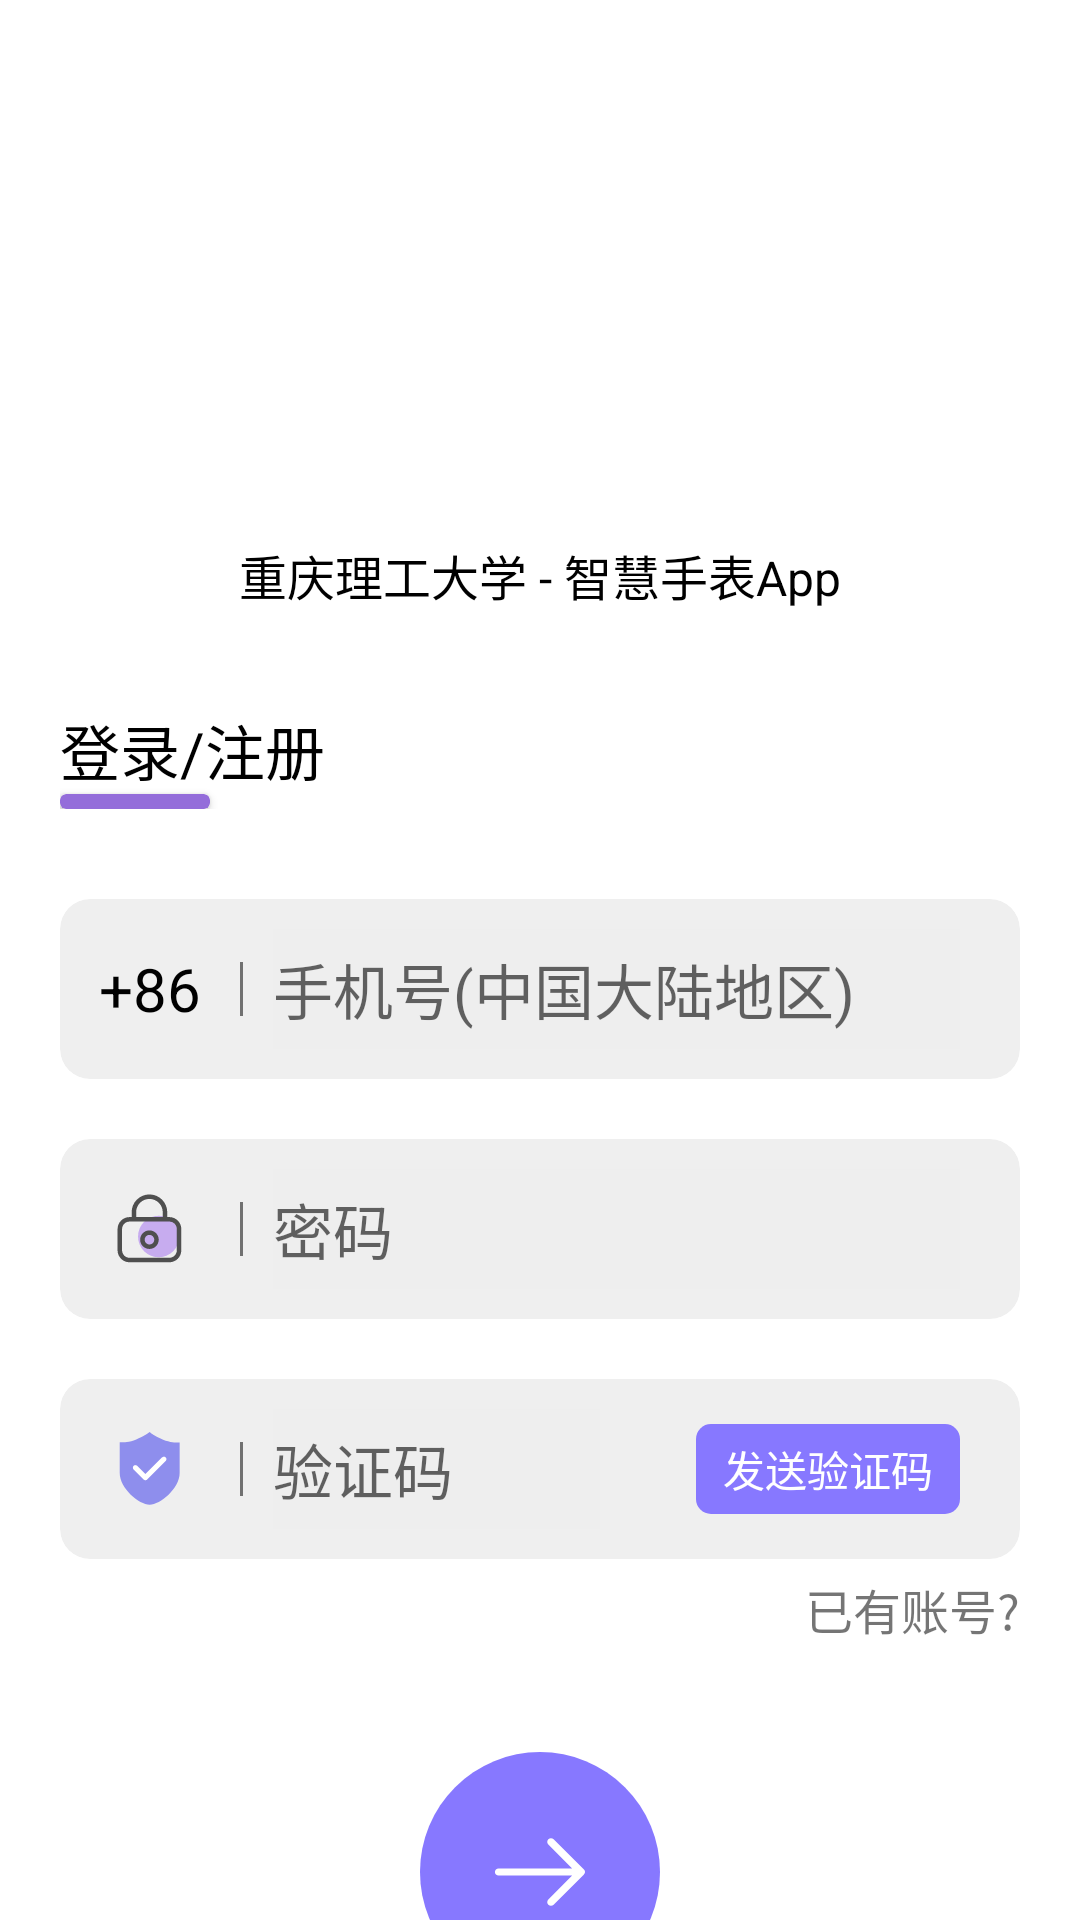

Icons on this 1080×1920 Android screen, each with its box as (x1, y1, x2, y2):
login register code: (119, 1432, 180, 1505)
login register password: (117, 1194, 182, 1263)
